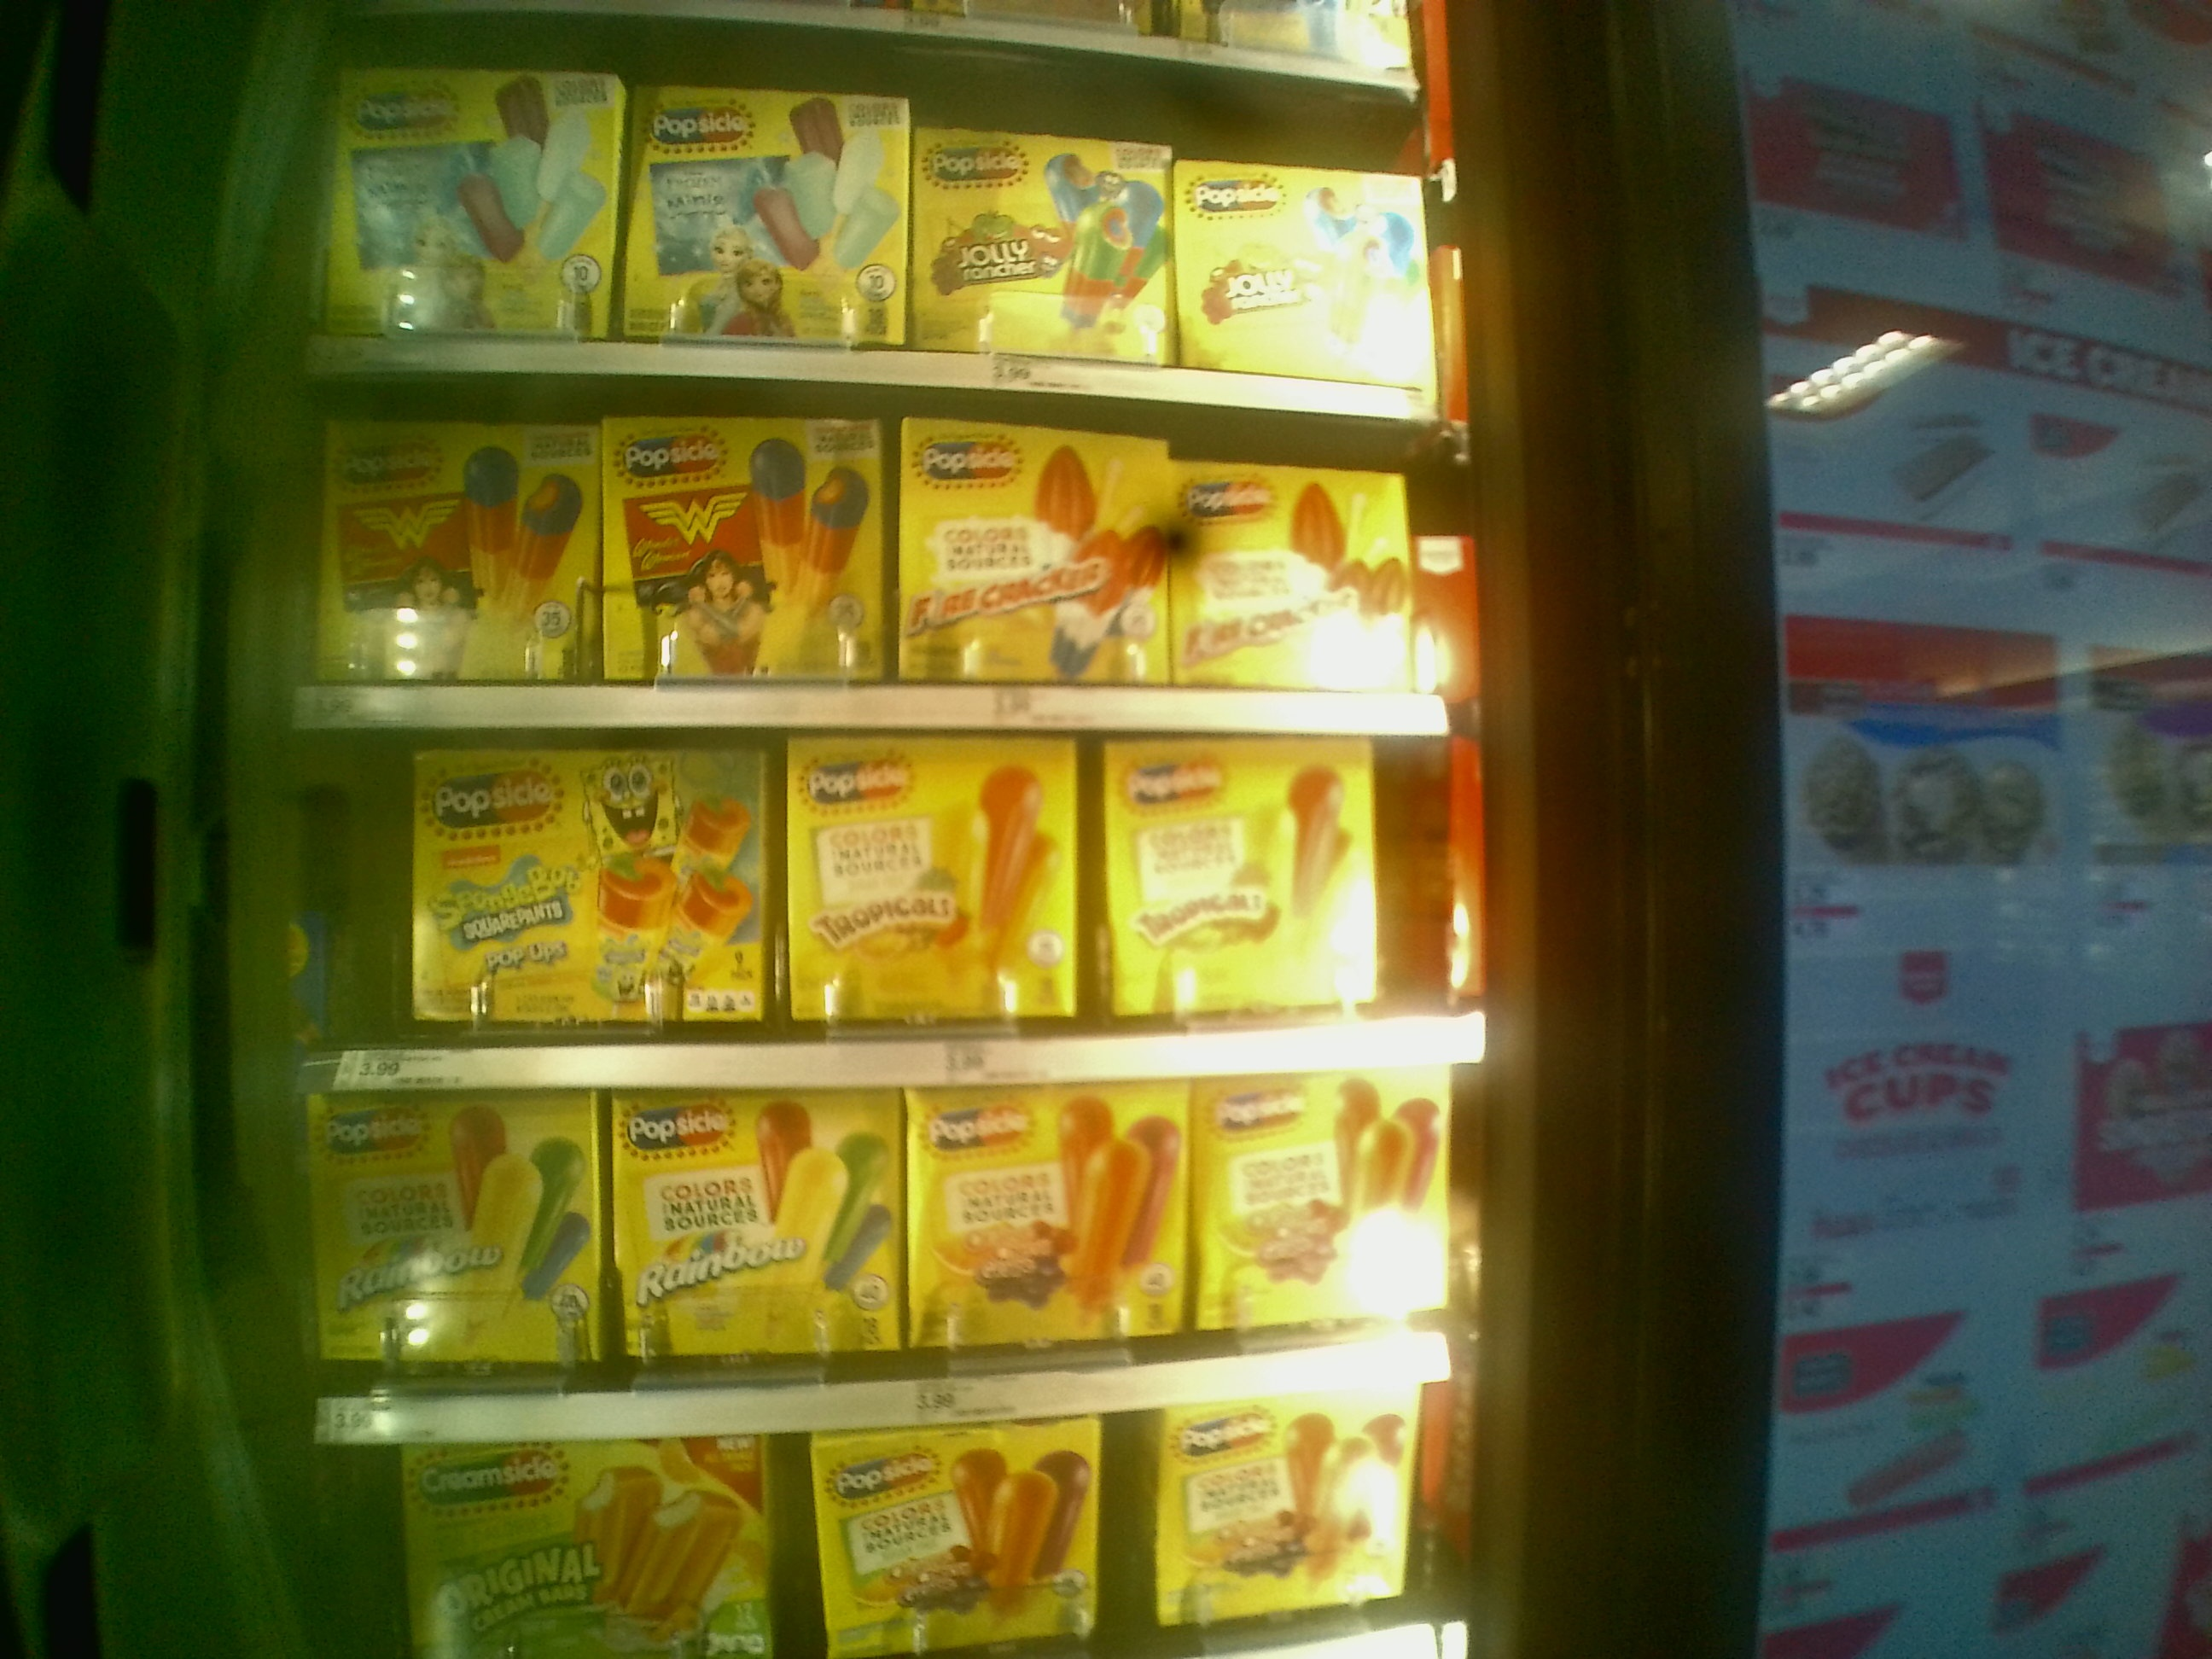shelf: (280, 716, 1496, 1070), (300, 1089, 1491, 1439), (284, 382, 1491, 723)
